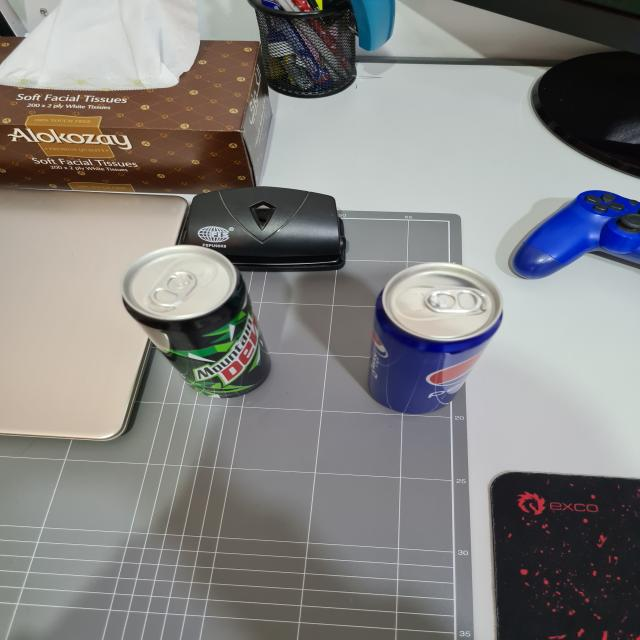non-organic waste: (108, 248, 276, 402), (363, 260, 510, 420)
